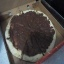pizza: (4, 9, 54, 62)
